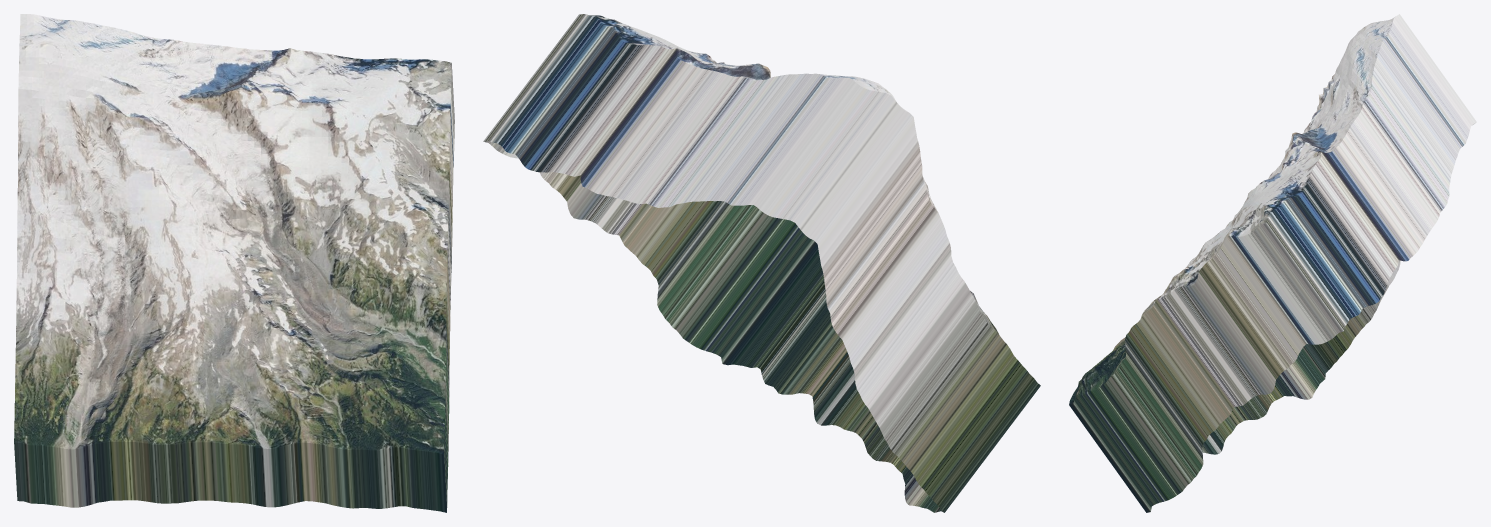
3 renders of one model, left to right at view 1: azimuth 30°, elevation 25°; view 2: azimuth 150°, elevation 25°; view 3: azimuth 270°, elevation 25°, orthographic. The views are drawn at different scales.
Size of the model in its own units: 10908 by 9602 by 9213.
1 material, 1 textured.
